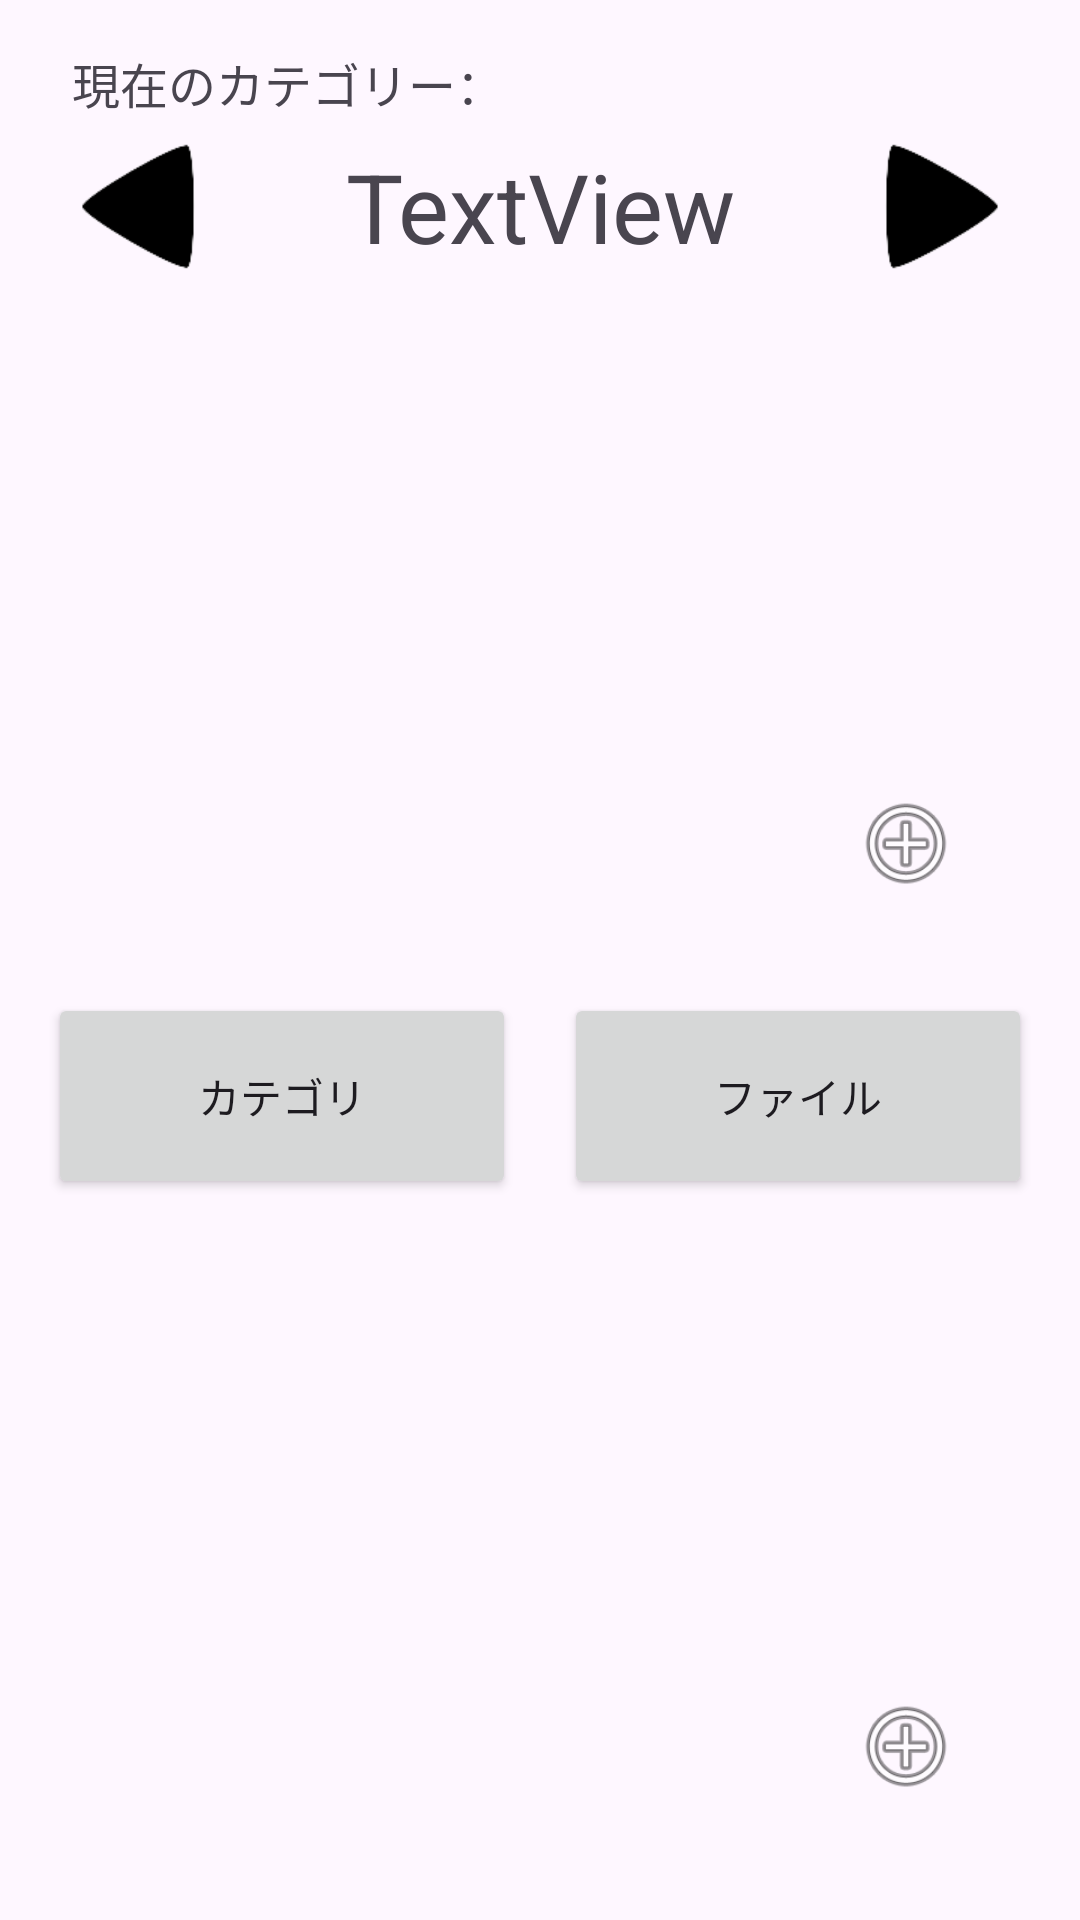

Named icons in this screenshot (1080px x 1920px) and their bounding boxes, box(x1, y1, x2, y2):
add: box(866, 803, 946, 884), box(866, 1706, 946, 1787)
